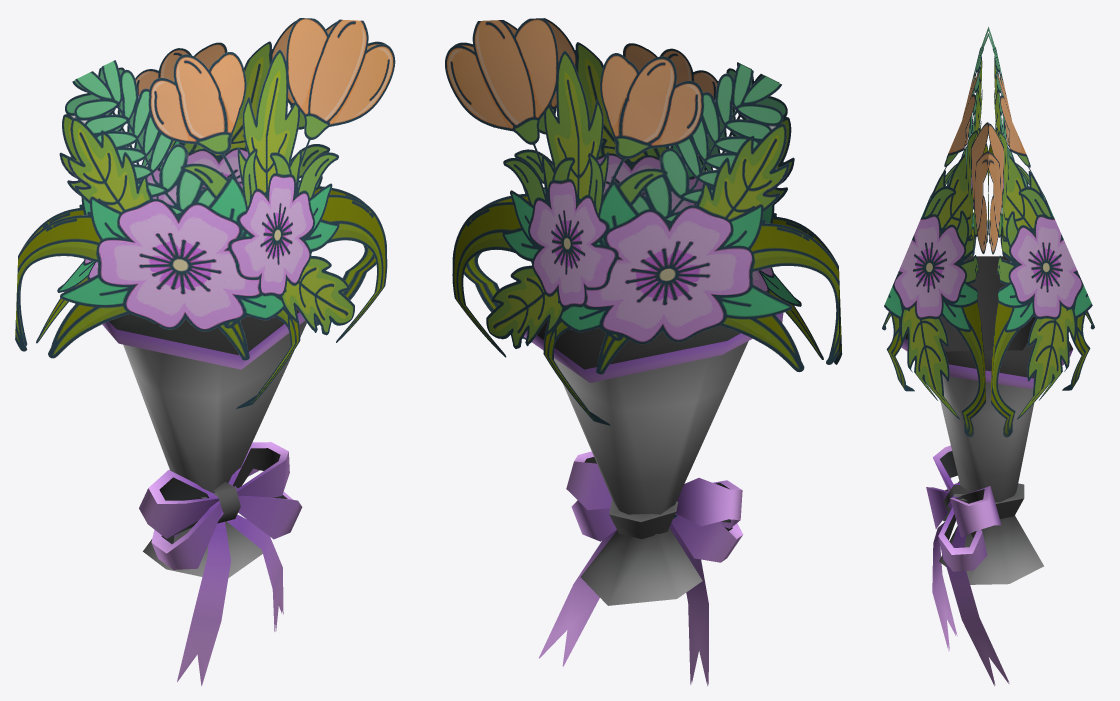
The model's file is Bouquet_03.fbx.
3 renders of one model, left to right at view 1: azimuth 30°, elevation 25°; view 2: azimuth 150°, elevation 25°; view 3: azimuth 270°, elevation 25°, orthographic. The views are drawn at different scales.
Parts seen in each view (by area): view 1: Bouquet_03; view 2: Bouquet_03; view 3: Bouquet_03.
Boxes of the visible parts, <box> form: Bouquet_03: <box>15,18,395,685</box>; Bouquet_03: <box>445,18,842,686</box>; Bouquet_03: <box>882,27,1094,686</box>.
Size of the model in its own units: 1.38 by 2.19 by 0.7649.
